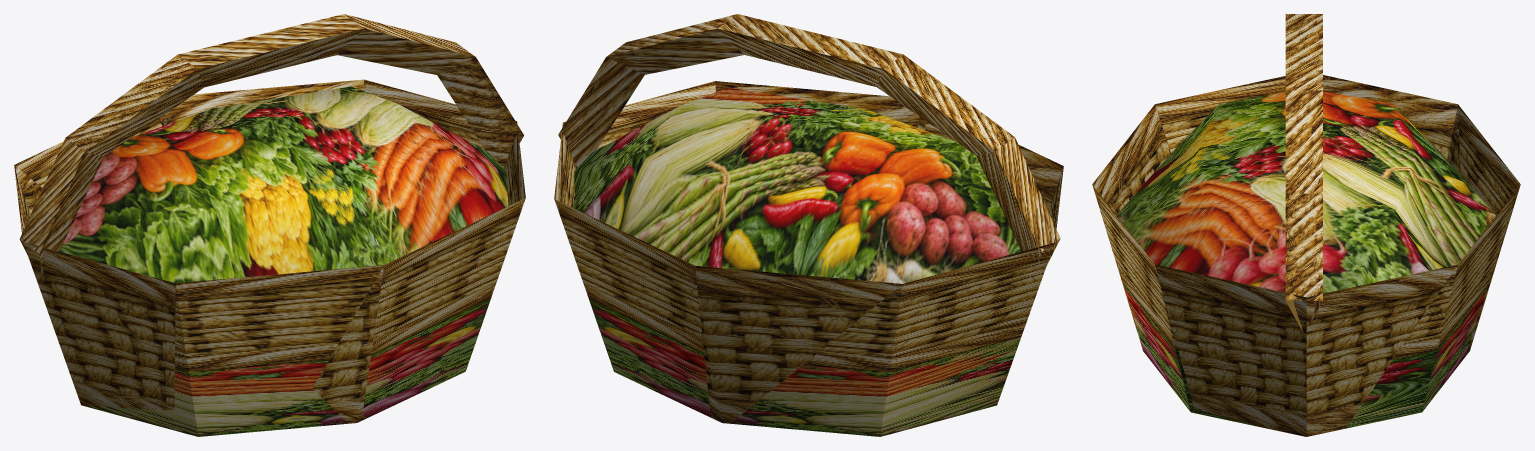
The model's file is mm9_deco_basketveggies.glb.
The picture shows the model from 3 angles, left to right: view 1: azimuth 30°, elevation 25°; view 2: azimuth 150°, elevation 25°; view 3: azimuth 270°, elevation 25°; orthographic projection. The views are drawn at different scales.
Parts seen in each view (by area): view 1: Basketveggies; view 2: Basketveggies; view 3: Basketveggies.
Boxes of the visible parts, <box> form: Basketveggies: <box>14,14,525,436</box>; Basketveggies: <box>554,14,1063,436</box>; Basketveggies: <box>1092,14,1520,436</box>.
Bounding box in the file's own units: 0.8905 × 0.5487 × 0.7134.
Materials: 2 (2 with a texture image).
